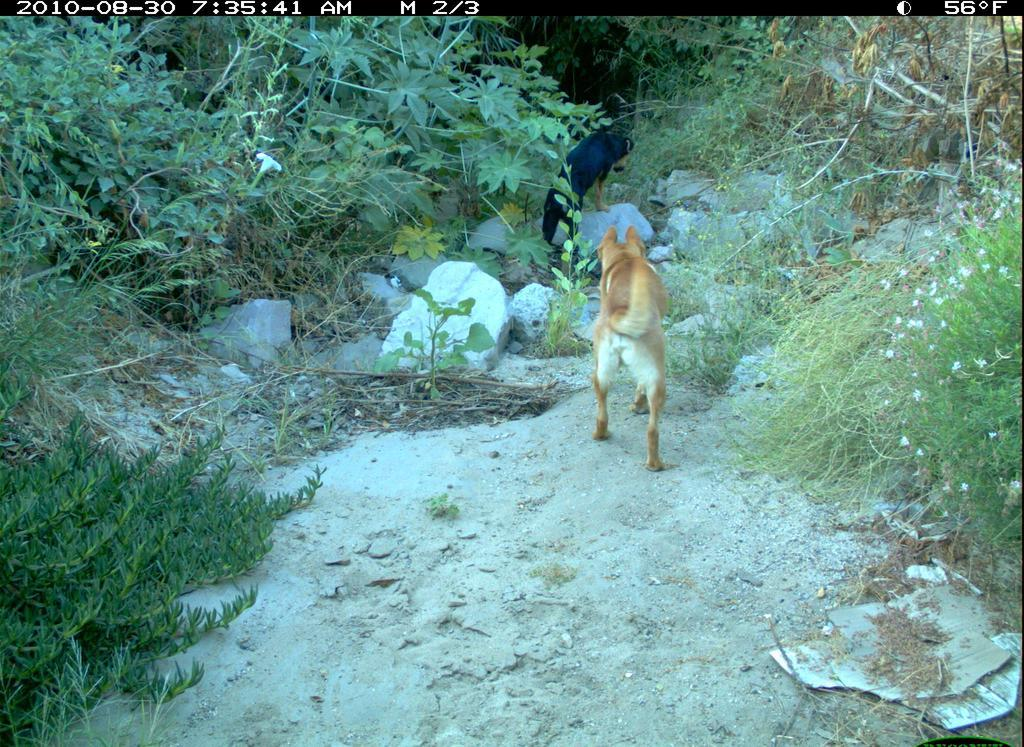dog: (591, 226, 676, 481), (534, 114, 634, 254)
